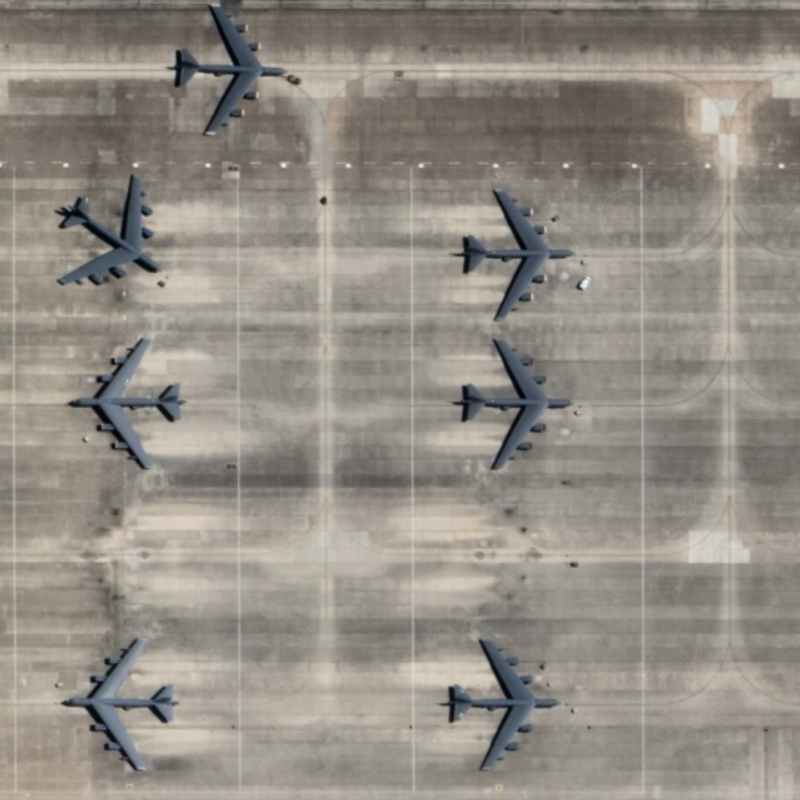A8: (52, 629, 188, 779), (454, 179, 579, 330), (441, 632, 567, 780), (162, 1, 295, 139), (65, 331, 188, 480), (449, 332, 575, 477), (47, 166, 173, 293)
